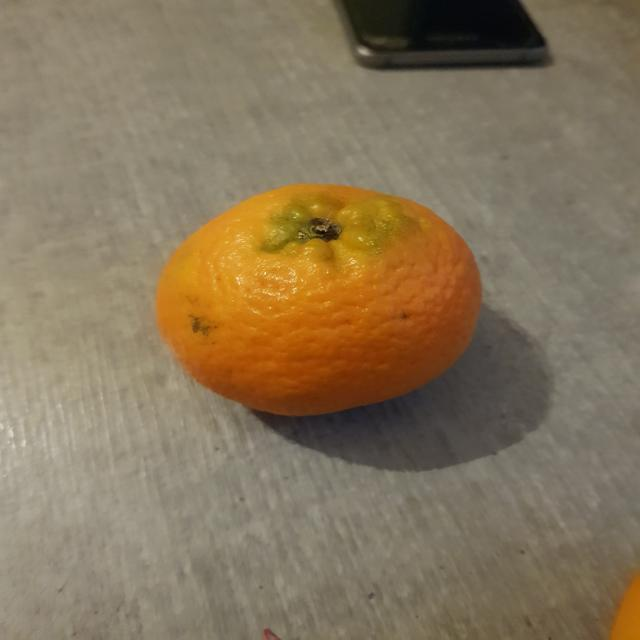Orange: (153, 183, 483, 418)
